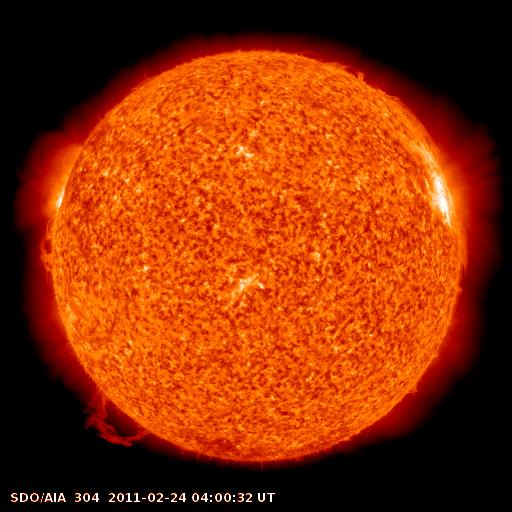prominence: (80, 381, 159, 452), (26, 219, 72, 275), (319, 46, 372, 85), (447, 222, 482, 276)
